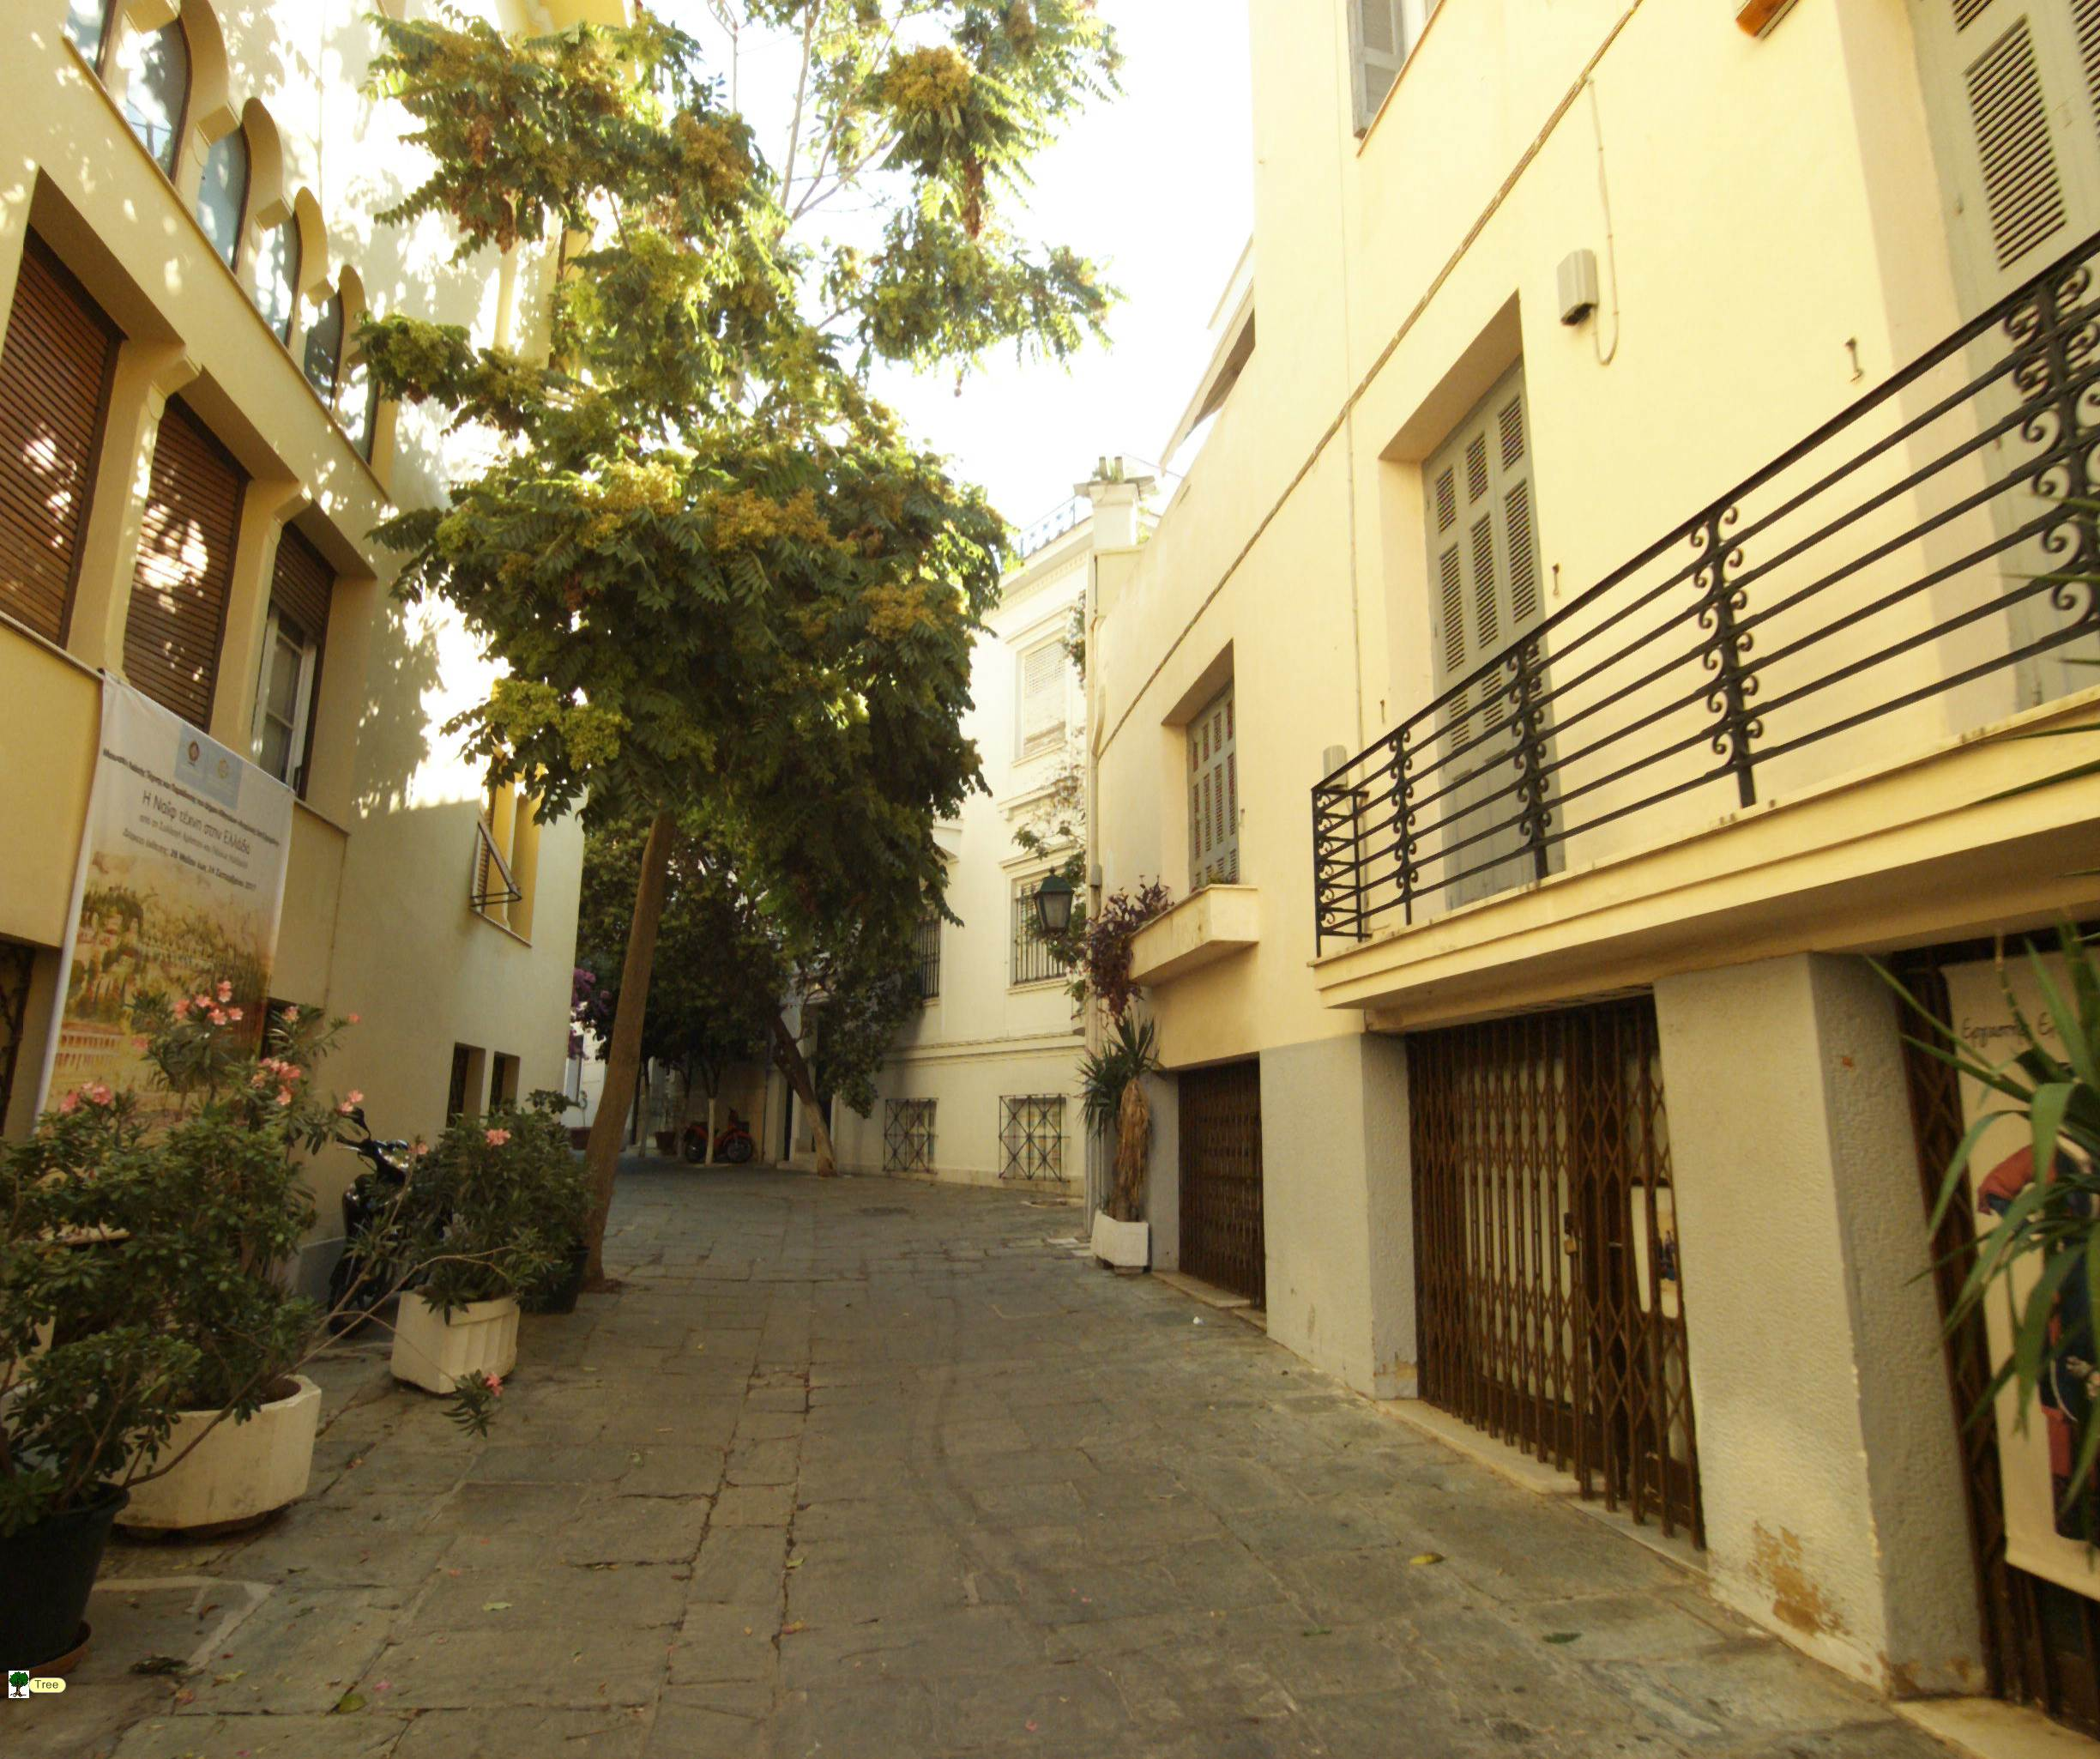tree: (406, 7, 856, 1393)
